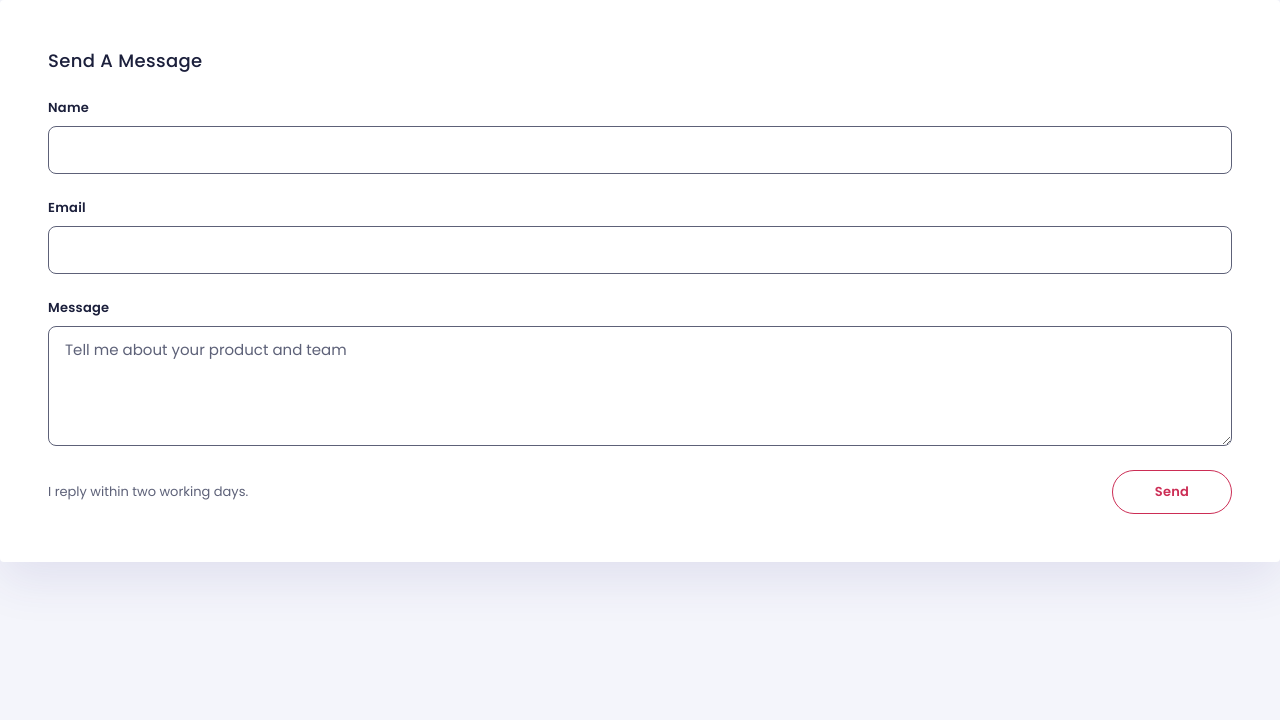
Test: ContactCard validation › blocks submit with errors on every empty field and focuses the first one
Click the button "Send": (1172, 492) top-left (1112, 470), bottom-right (1232, 514)
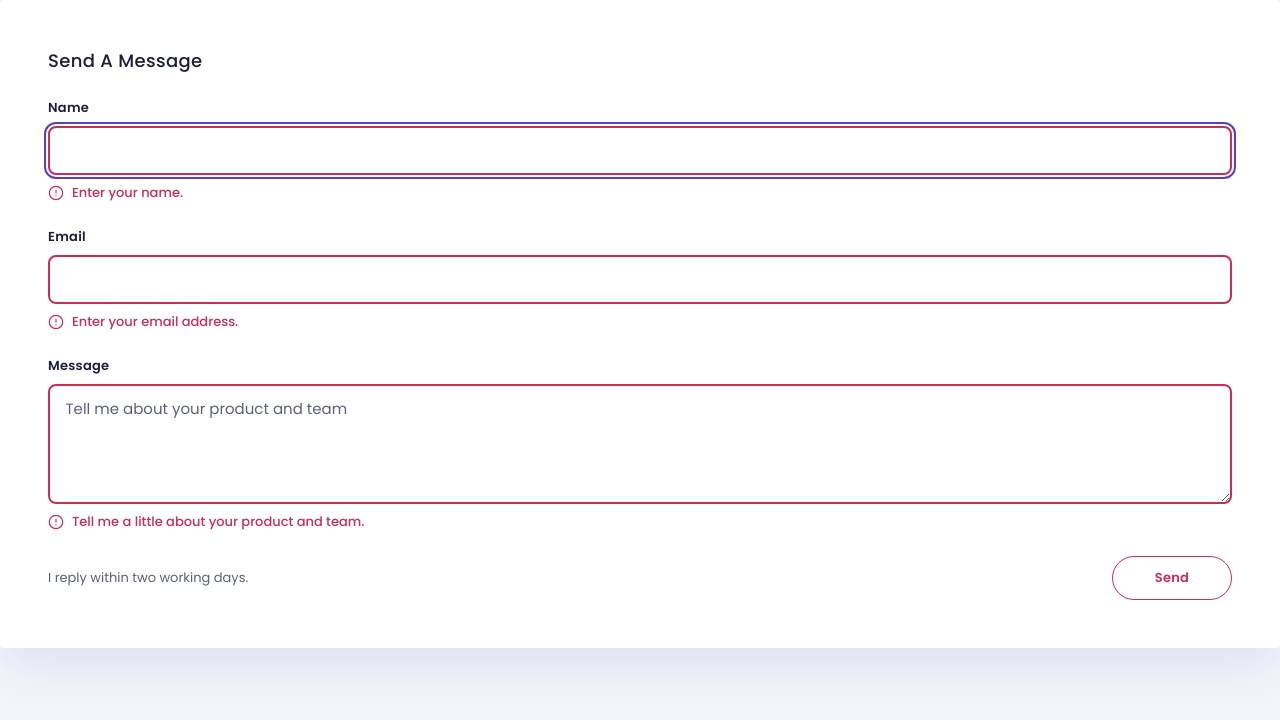
Expected: the text box labelled "Message" is marked as invalid, top-left (48, 384), bottom-right (1232, 504)
